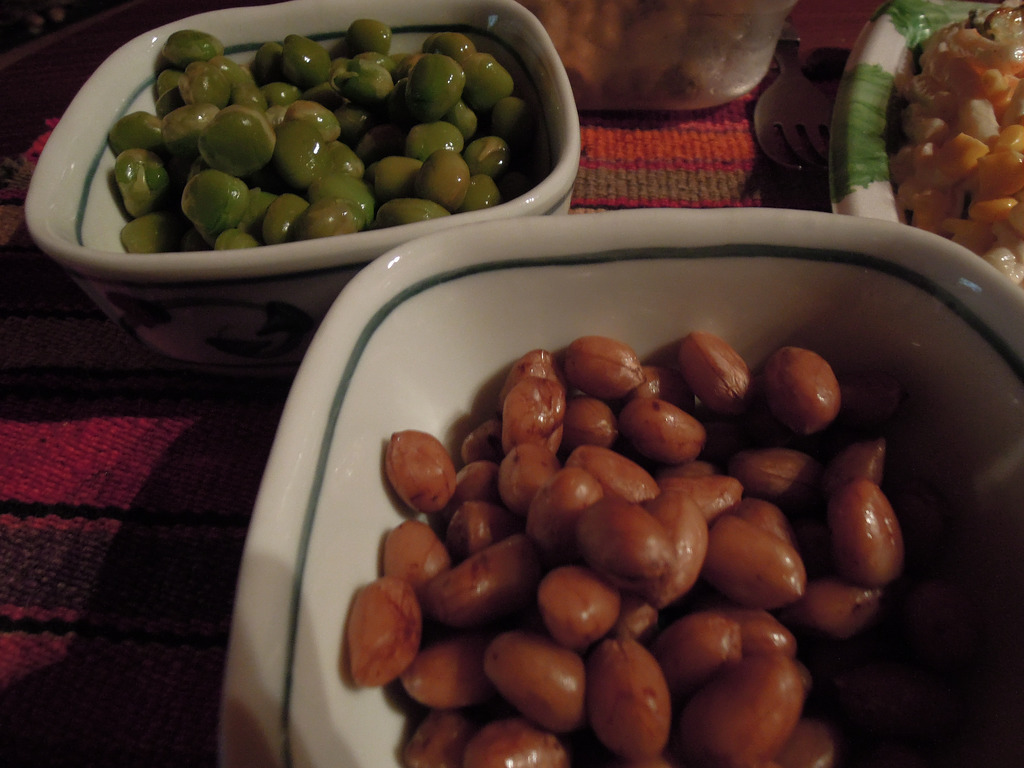boiled peas: (116, 18, 526, 253)
